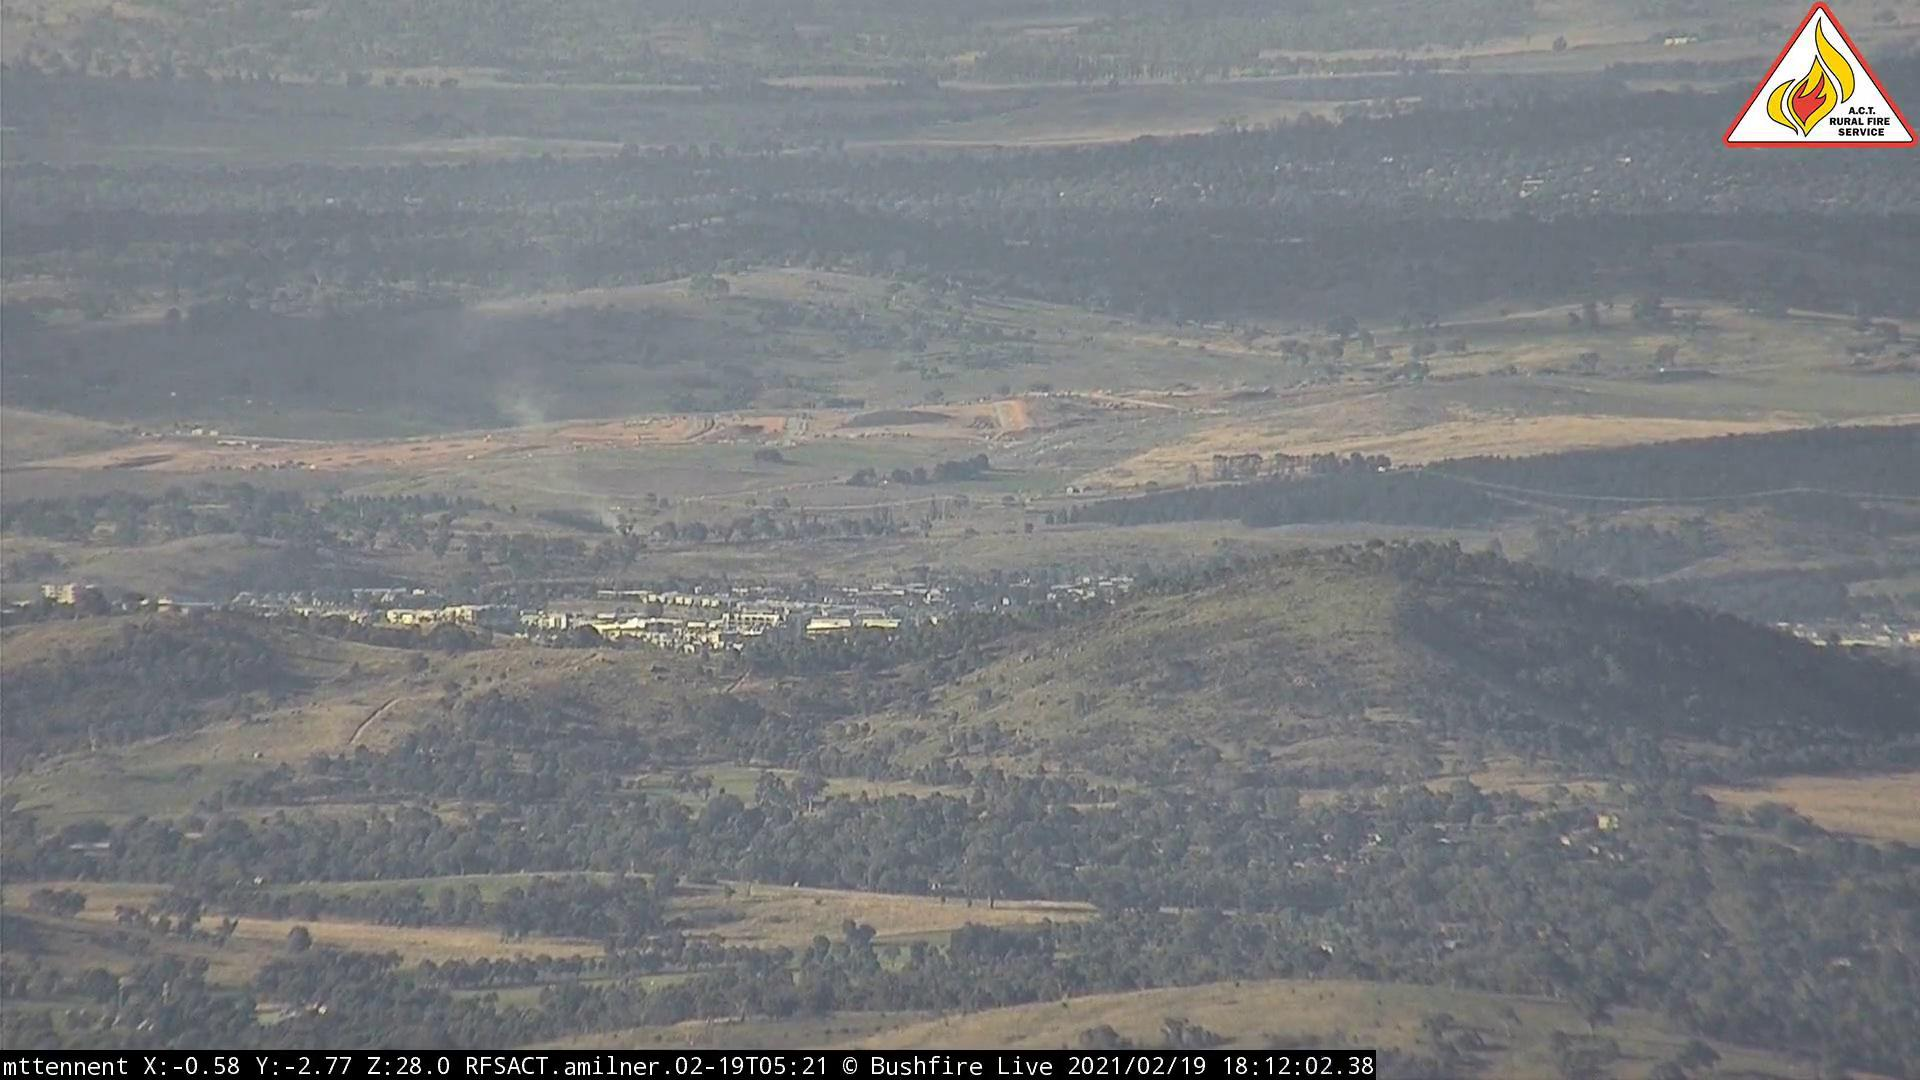instance_salient_object: (601, 498, 651, 559)
